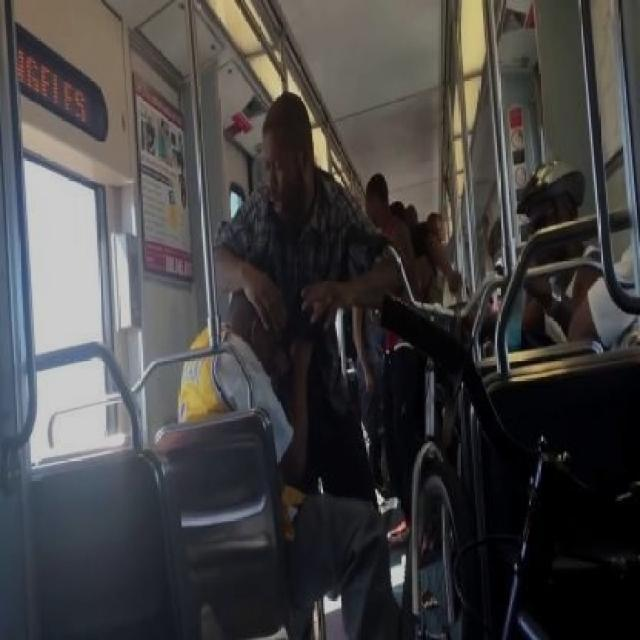fight: (170, 91, 401, 638)
